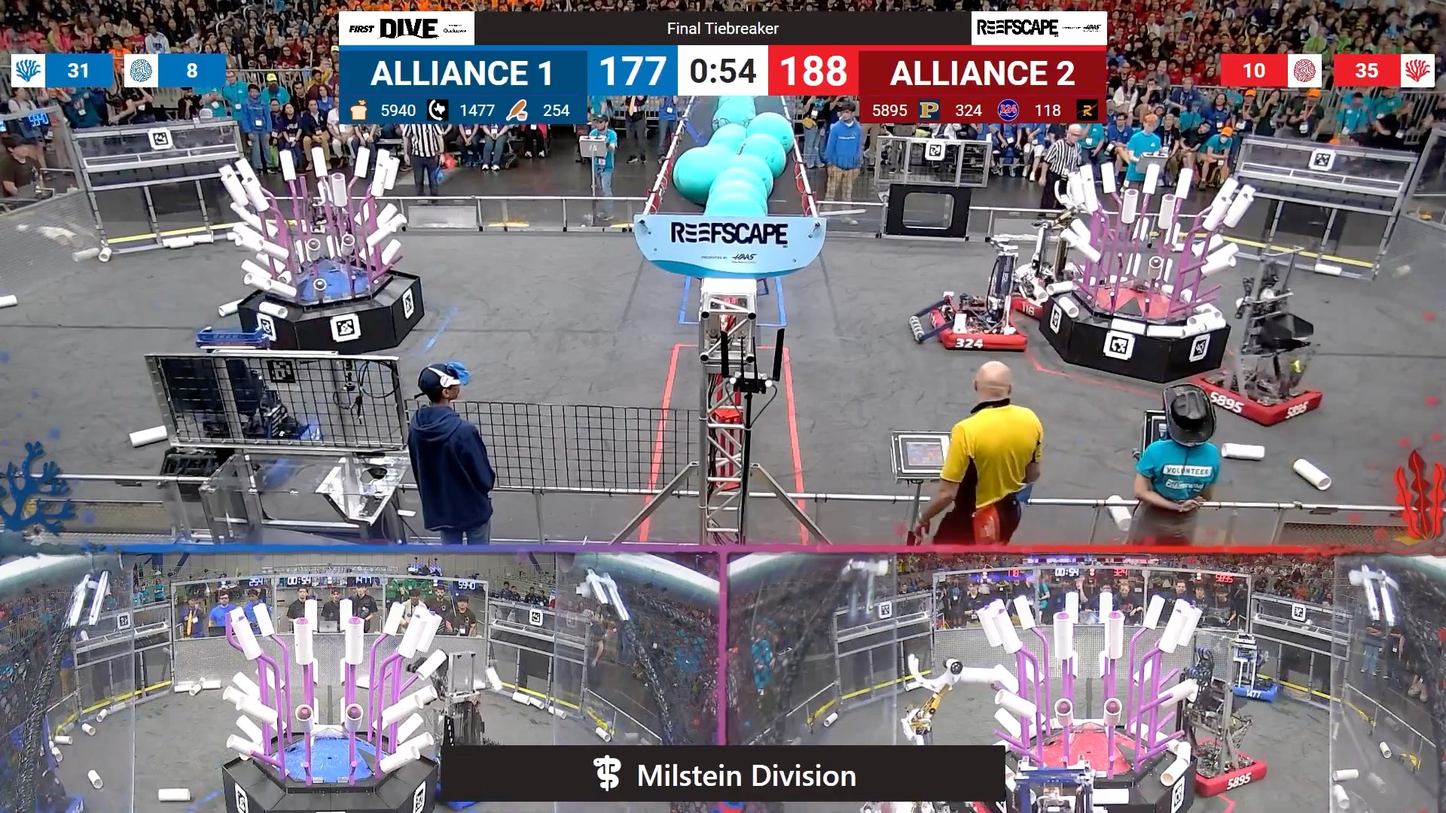bumpers: (172, 418, 324, 491), (1188, 369, 1332, 432), (924, 302, 1037, 359), (995, 272, 1083, 324), (1171, 751, 1268, 796), (0, 788, 90, 813), (1221, 673, 1285, 702)
